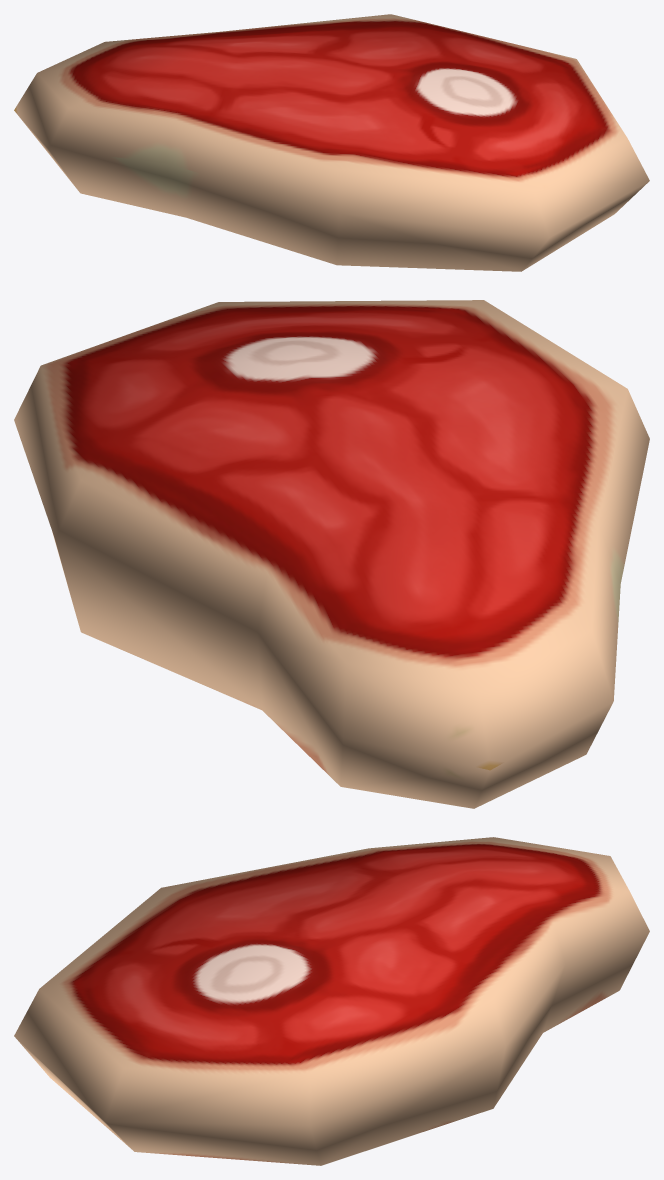
File: raw_meat.fbx
The picture shows the model from 3 angles, top to bottom: view 1: azimuth 30°, elevation 25°; view 2: azimuth 150°, elevation 25°; view 3: azimuth 270°, elevation 25°; orthographic projection. The views are drawn at different scales.
Parts seen in each view (by area): view 1: P_PROP_food_meat_01; view 2: P_PROP_food_meat_01; view 3: P_PROP_food_meat_01.
Part boxes in pixels (box(x1,y1,x2,y2)): P_PROP_food_meat_01: box(14, 14, 649, 271); P_PROP_food_meat_01: box(14, 300, 649, 808); P_PROP_food_meat_01: box(14, 837, 649, 1165).
Bounding box in the file's own units: 40.25 × 9.68 × 42.
